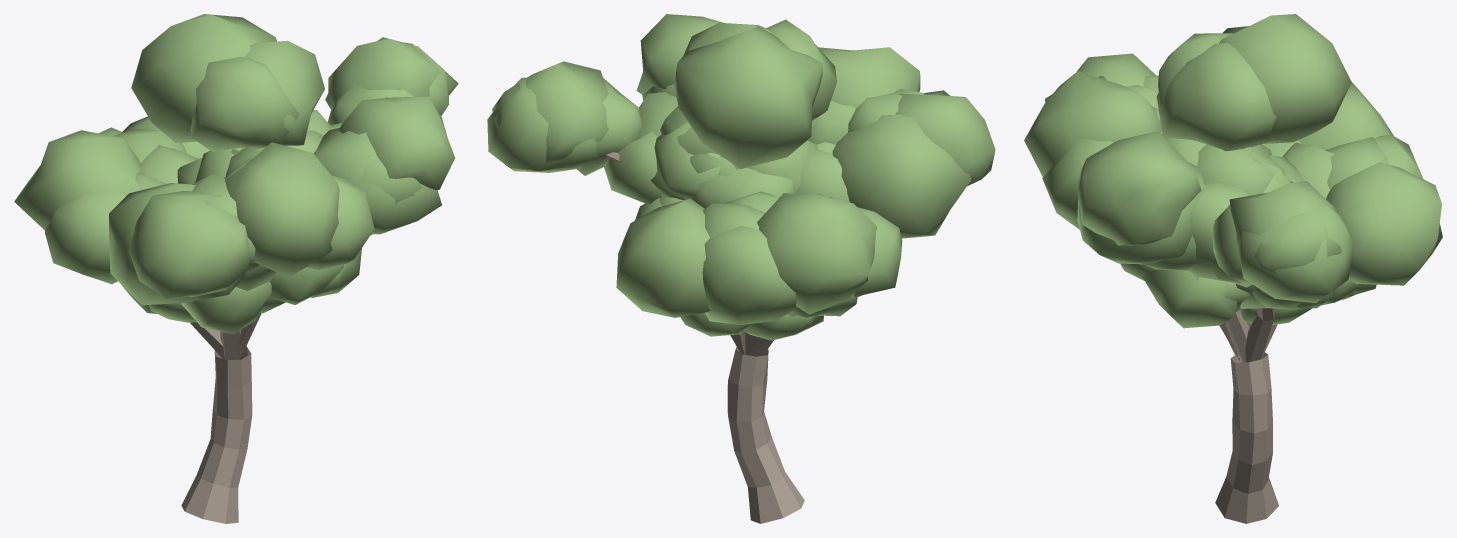
File: Blender_BlackOak_3.glb
3 views of the same model, side by side, from view 1: azimuth 30°, elevation 25°; view 2: azimuth 150°, elevation 25°; view 3: azimuth 270°, elevation 25° (orthographic).
Visible parts, largest first — view 1: Blender_BlackOak_3; view 2: Blender_BlackOak_3; view 3: Blender_BlackOak_3.
Boxes of the visible parts, <box> form: Blender_BlackOak_3: <box>14,14,458,523</box>; Blender_BlackOak_3: <box>487,14,995,523</box>; Blender_BlackOak_3: <box>1024,14,1442,523</box>.
Size of the model in its own units: 16.29 by 19.18 by 14.44.
